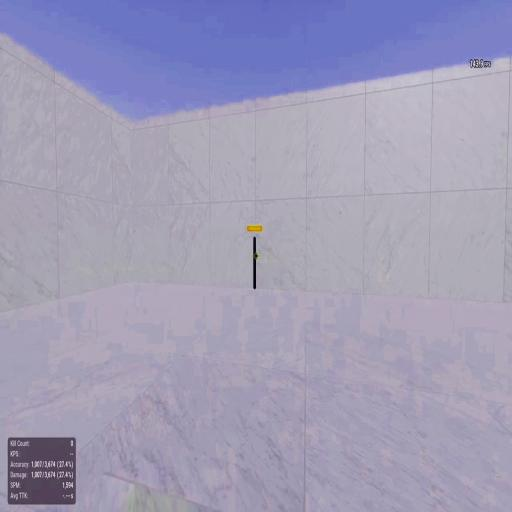Crosshair: (254, 252, 258, 261)
Target: (253, 236, 257, 288)
